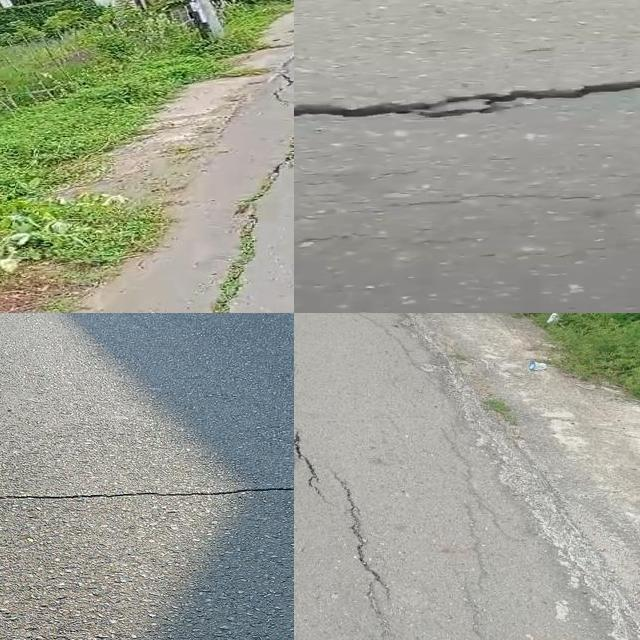Melintang: (294, 67, 640, 133), (0, 472, 294, 513)
Memanjang: (197, 86, 294, 313), (329, 477, 396, 606), (294, 313, 330, 504)
